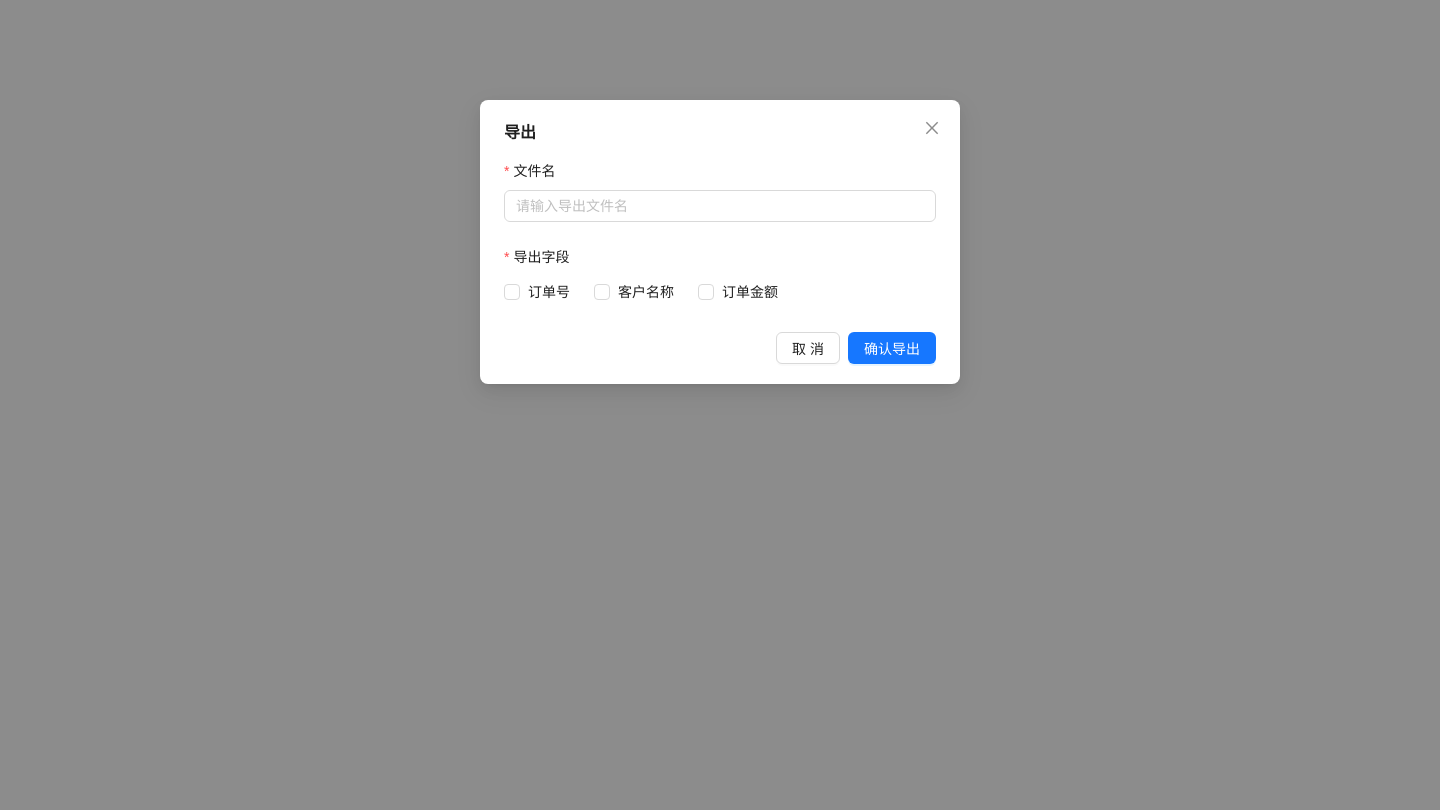
Test: ExportModal › 未勾选字段时提交显示校验提示
# 填入文件名但不勾选字段
Type "test" into the field with placeholder "请输入导出文件名" at {"x": 720, "y": 206}, box [504, 190, 936, 222]
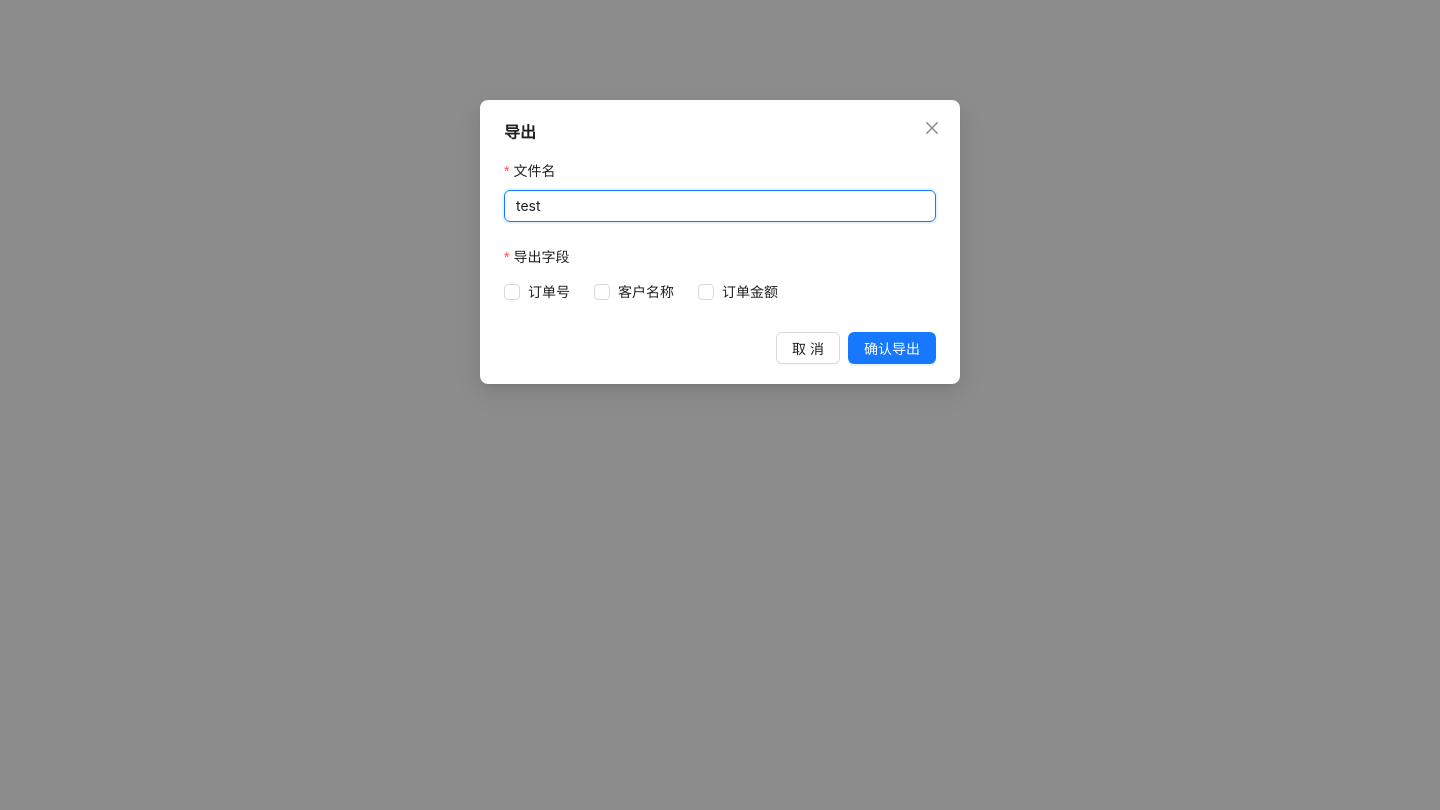
Click the button "确认导出" at {"x": 892, "y": 348}, box [848, 332, 936, 364]
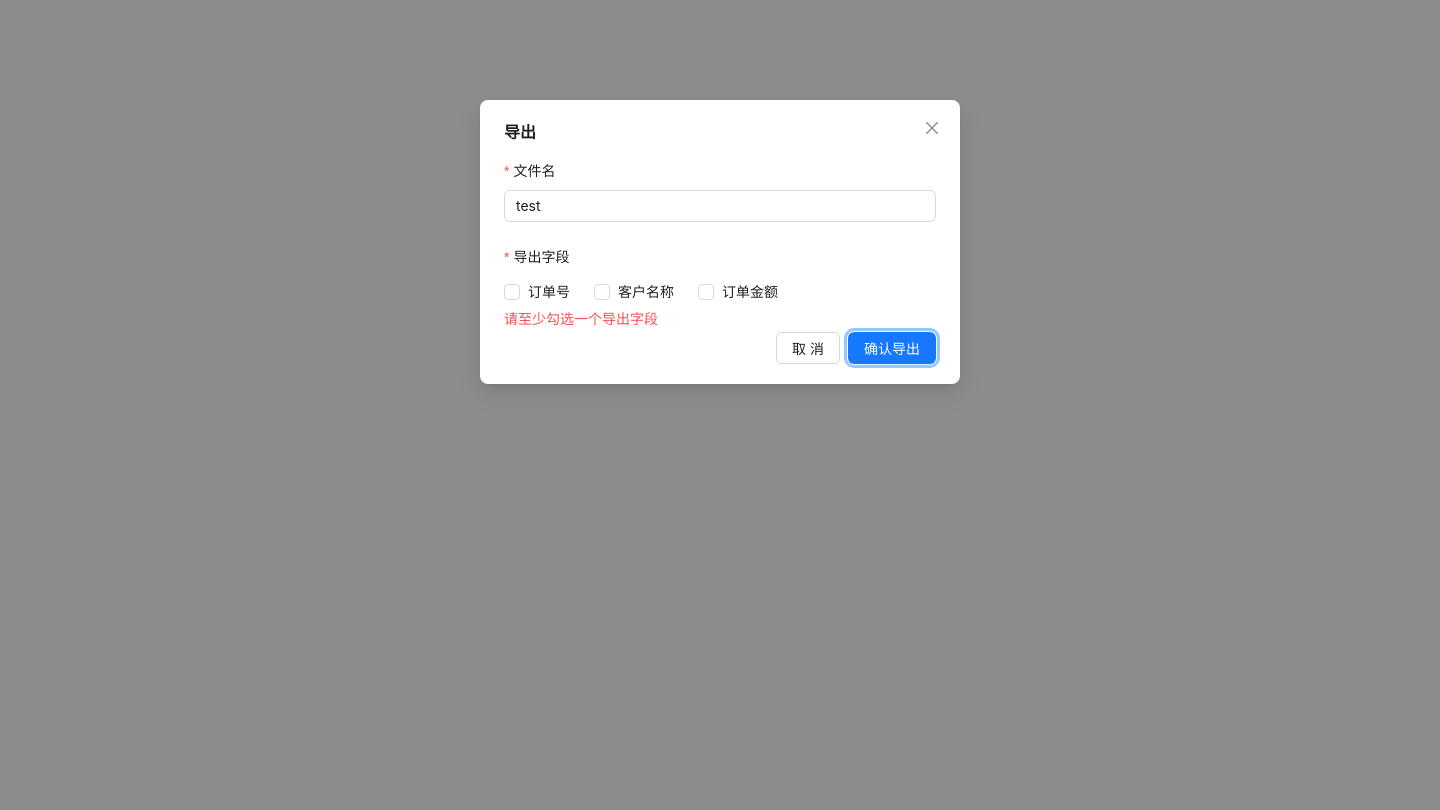
expect the text "请至少勾选一个导出字段" is shown: met, box [504, 310, 658, 327]
